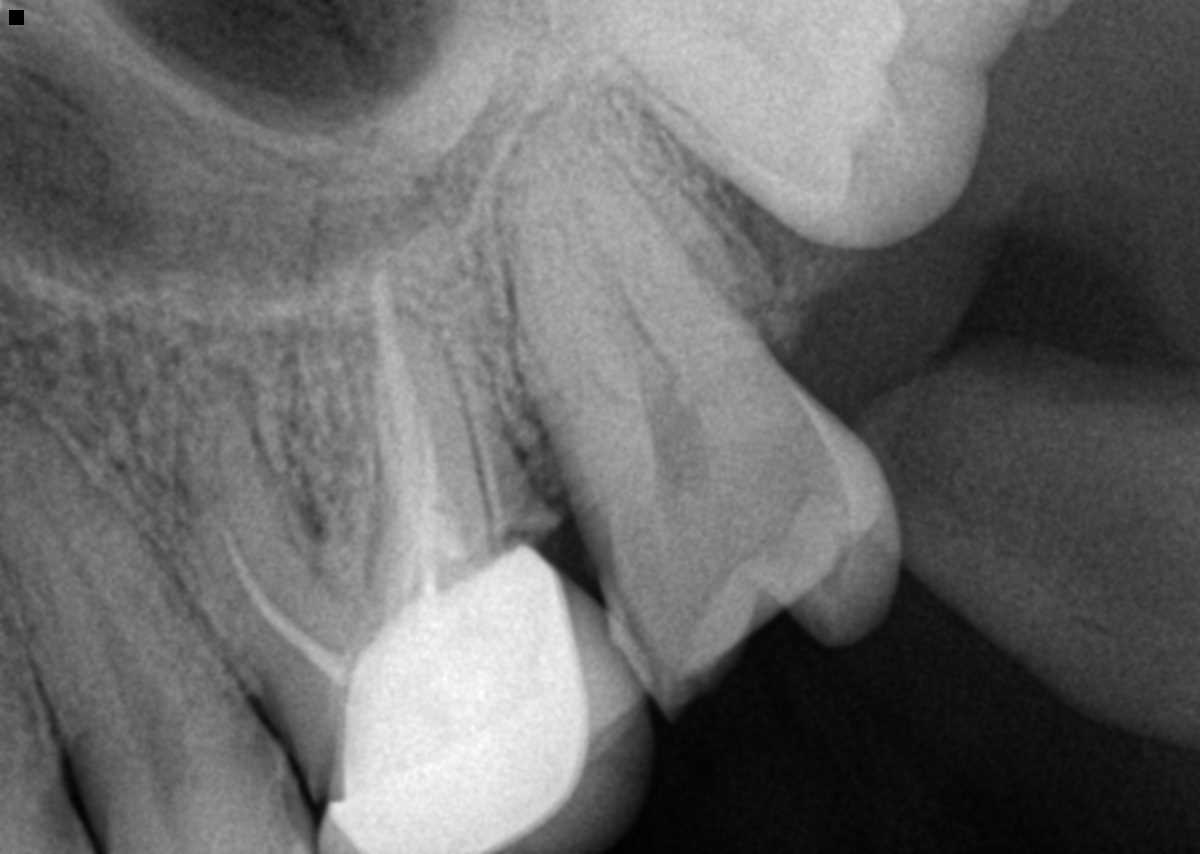Distal Root: (364, 315, 497, 602)
Main Canal: (26, 487, 164, 722)
Main Root: (0, 405, 229, 754)
Mesial Canal: (572, 347, 645, 411)
Mesial Root: (176, 372, 360, 714)
Palatal Canal: (617, 281, 675, 395)
Palatal Root: (506, 110, 800, 555), (289, 124, 530, 581)
Root Canal Filling: (375, 272, 467, 590), (224, 537, 351, 690)
